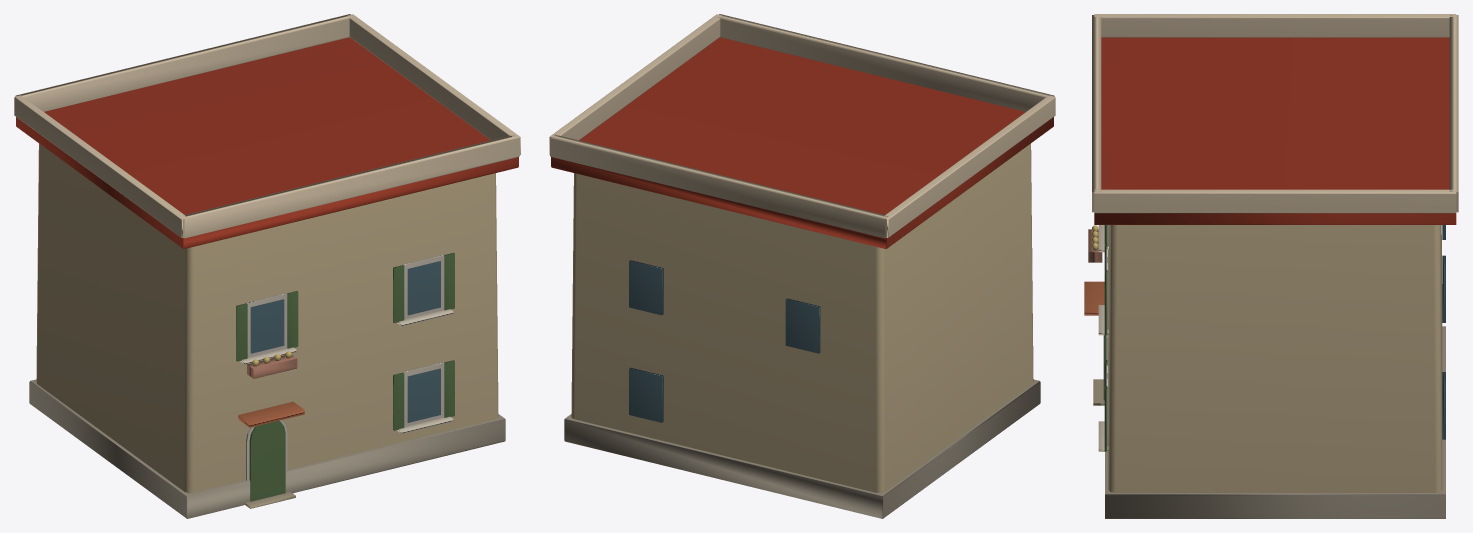
Rendered from house_19.glb.
The picture shows the model from 3 angles, left to right: view 1: azimuth 30°, elevation 25°; view 2: azimuth 150°, elevation 25°; view 3: azimuth 270°, elevation 25°; orthographic projection. The views are drawn at different scales.
Parts seen in each view (by area): view 1: house_19; view 2: house_19; view 3: house_19.
Boxes of the visible parts, x1=… form: house_19: x1=14, y1=14, x2=520, y2=518; house_19: x1=549, y1=14, x2=1055, y2=518; house_19: x1=1084, y1=14, x2=1458, y2=518.
Size of the model in its own units: 9.25 by 8.02 by 8.15.
